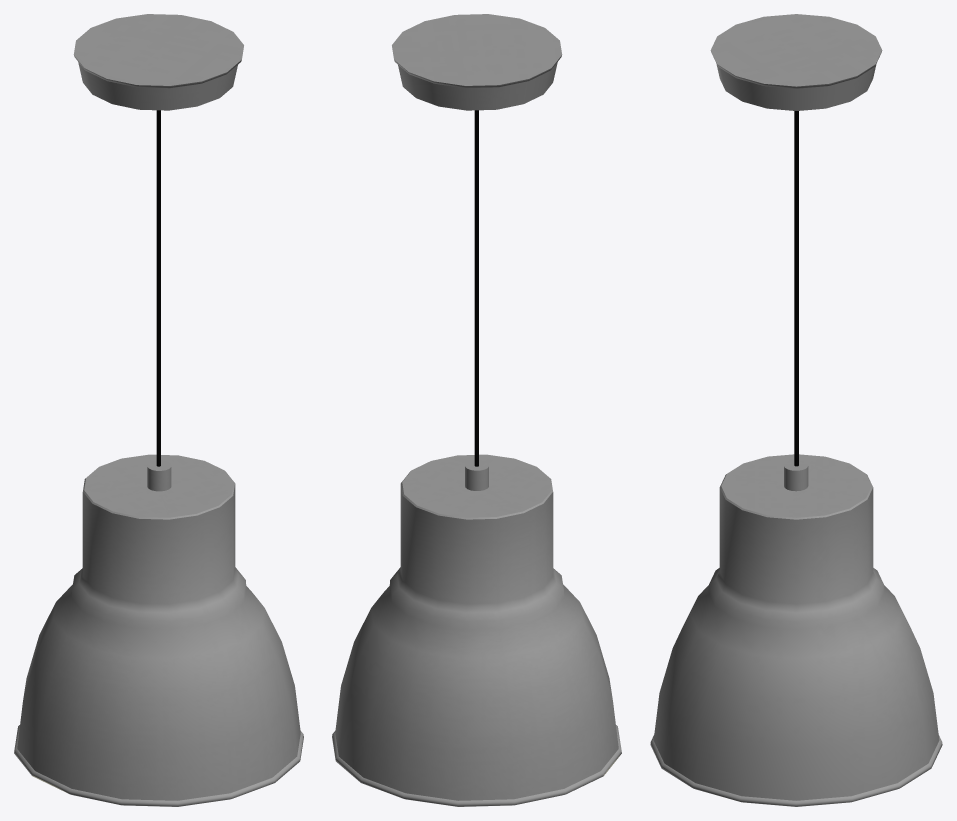
File: SpotLampWithTexV2.obj
The picture shows the model from 3 angles, left to right: view 1: azimuth 30°, elevation 25°; view 2: azimuth 150°, elevation 25°; view 3: azimuth 270°, elevation 25°; orthographic projection.
Visible parts, largest first — view 1: Object_4; view 2: Object_4; view 3: Object_4.
Boxes of the visible parts, left/top/right/bottom form: Object_4: left=14, top=14, right=303, bottom=806; Object_4: left=332, top=14, right=621, bottom=806; Object_4: left=650, top=14, right=942, bottom=806.
Size of the model in its own units: 0.4583 by 1.2 by 0.4583.
